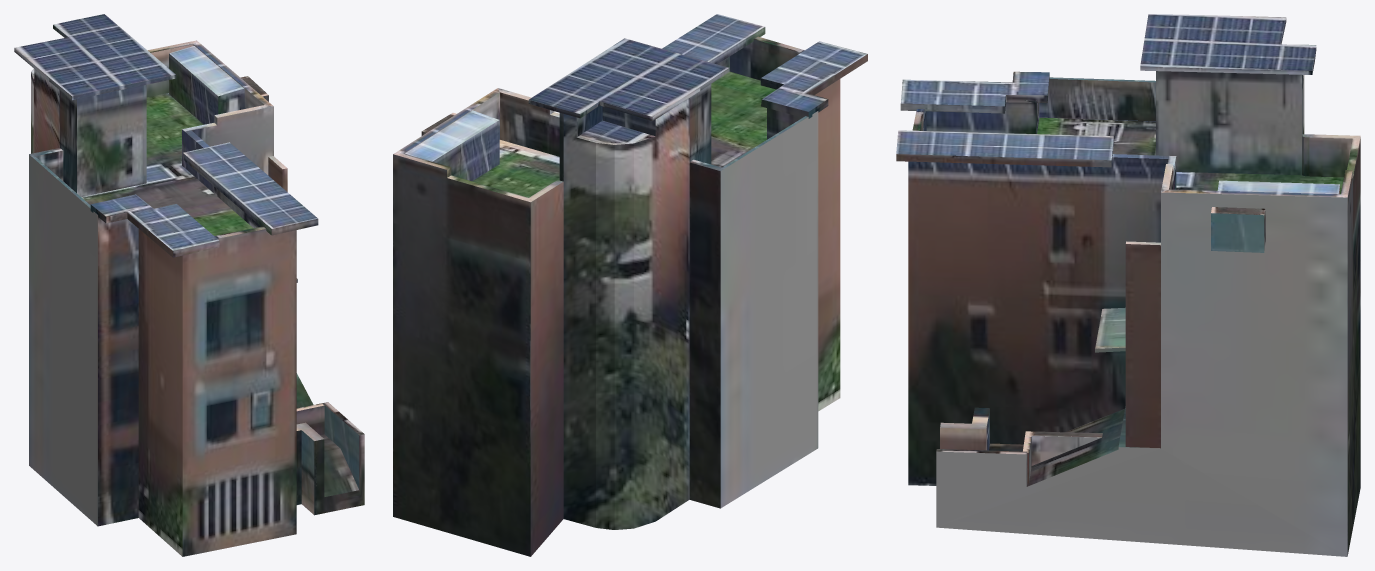
3 renders of one model, left to right at view 1: azimuth 30°, elevation 25°; view 2: azimuth 150°, elevation 25°; view 3: azimuth 270°, elevation 25°, orthographic. The views are drawn at different scales.
Visible parts, largest first — view 1: B281074041001062A0; view 2: B281074041001062A0; view 3: B281074041001062A0.
Boxes of the visible parts, left/top/right/bottom form: B281074041001062A0: left=14, top=14, right=364, bottom=556; B281074041001062A0: left=393, top=14, right=867, bottom=556; B281074041001062A0: left=896, top=14, right=1360, bottom=556.
Bounding box in the file's own units: 9.29 × 13.73 × 13.47.
1 material, 1 textured.
